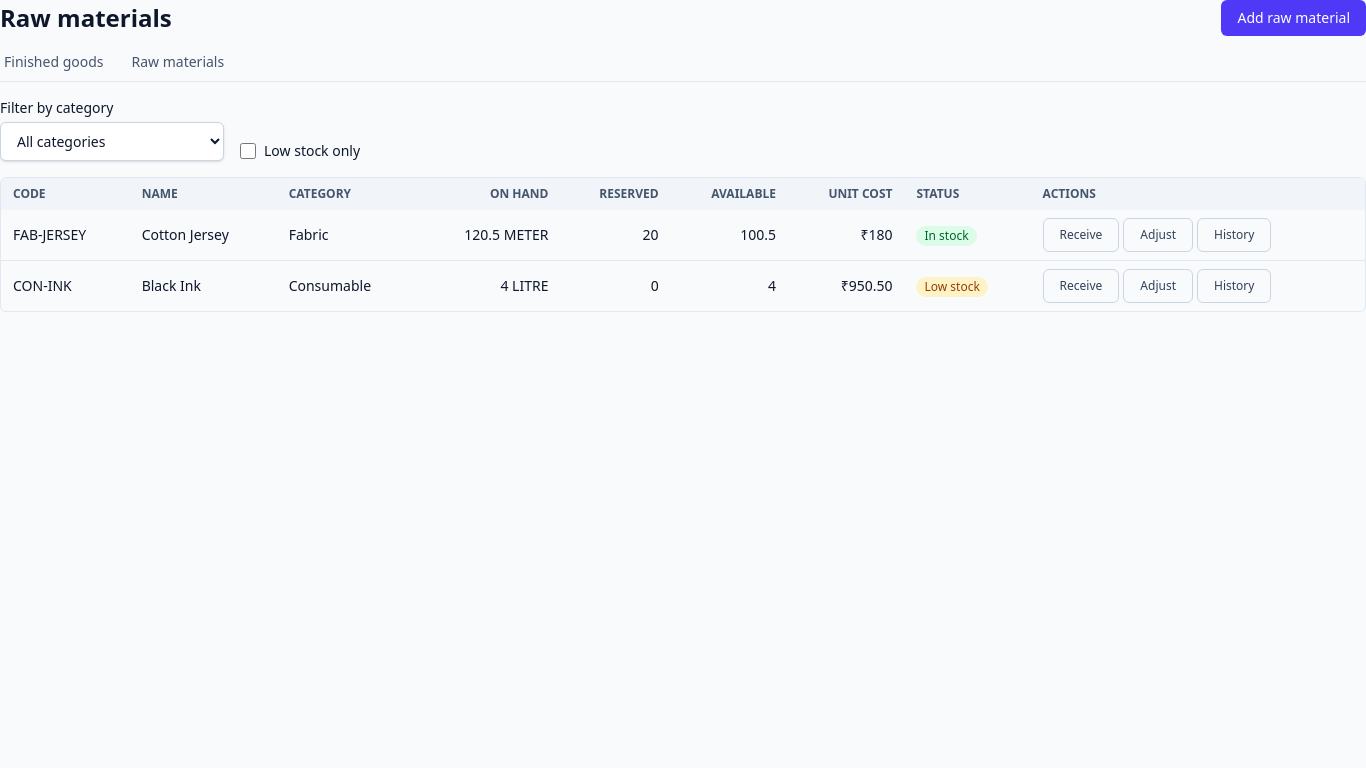
Test case: RawMaterialsPage › receives a decimal quantity of a raw material
The width and height of the screenshot is (1366, 768).
Click the button with aria-label "Receive Cotton Jersey" at {"x": 1081, "y": 235}, box left=1043, top=218, right=1119, bottom=252
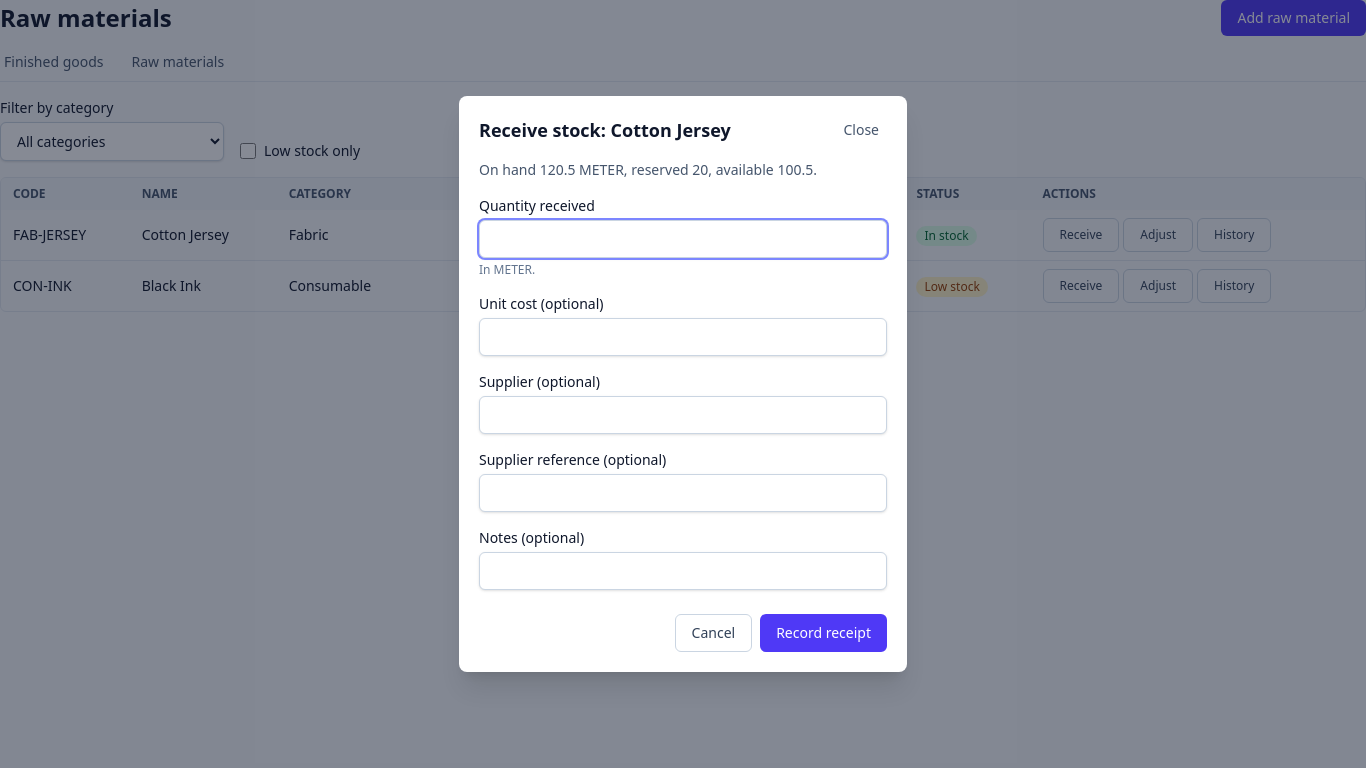
Type "12.5" into the field labelled "Quantity received" at {"x": 683, "y": 239}, box left=479, top=220, right=887, bottom=258
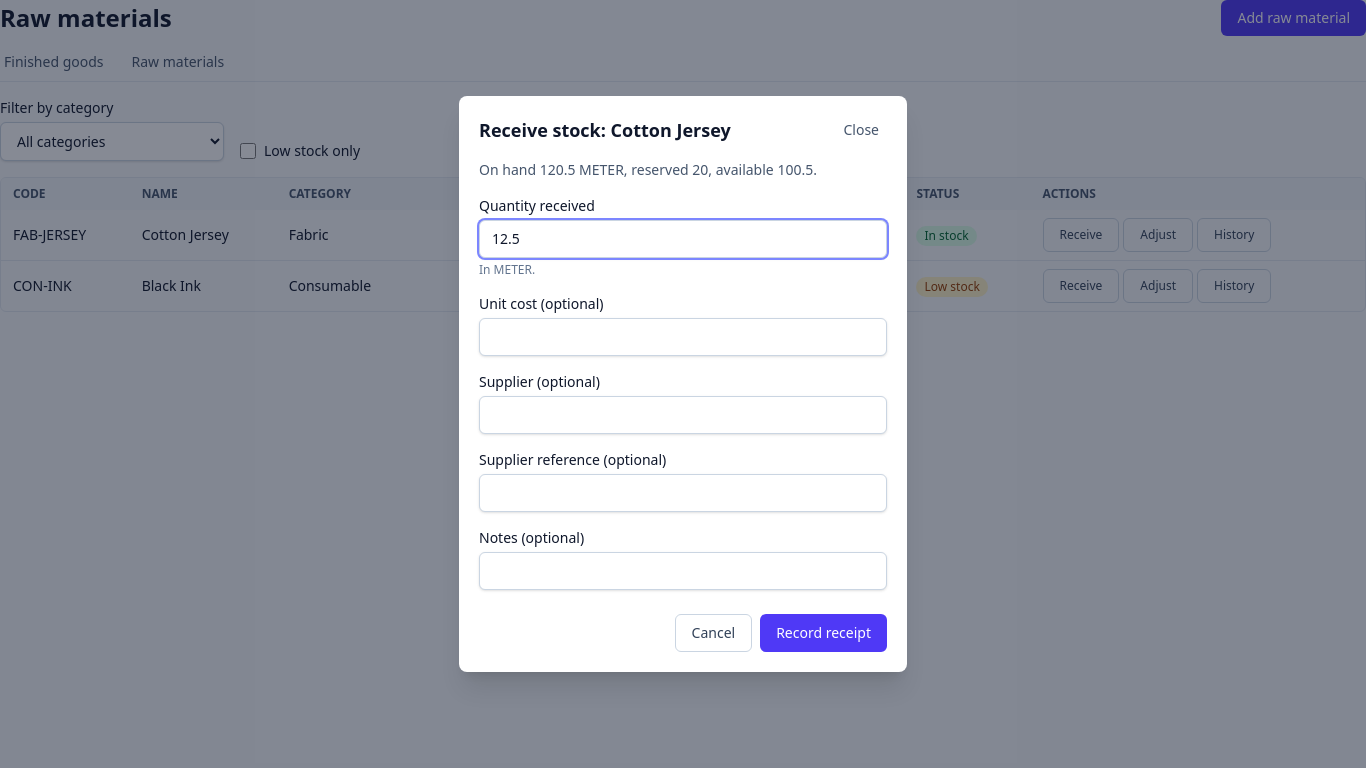
Click the button "Record receipt" at {"x": 824, "y": 633}, box left=760, top=614, right=887, bottom=652
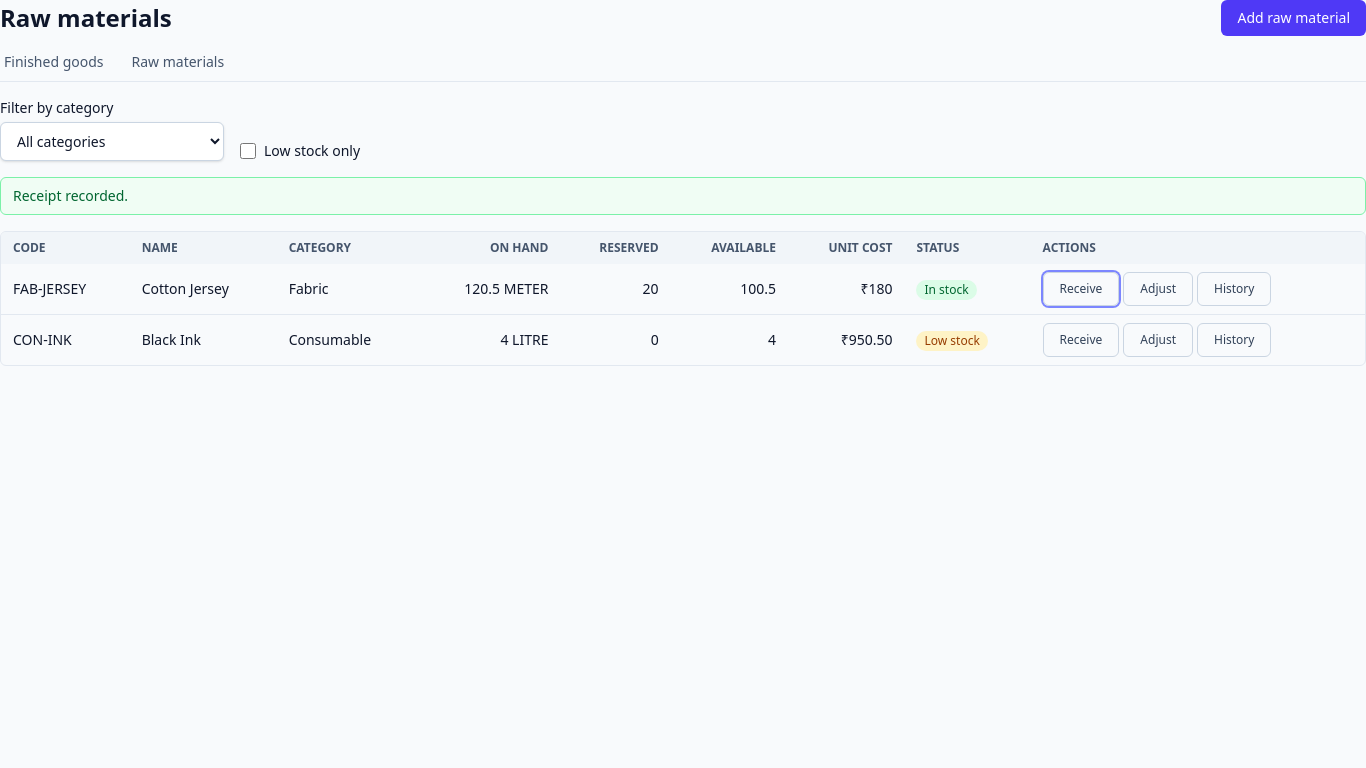
Check: the text "Receipt recorded." is shown, box left=0, top=177, right=1365, bottom=215
